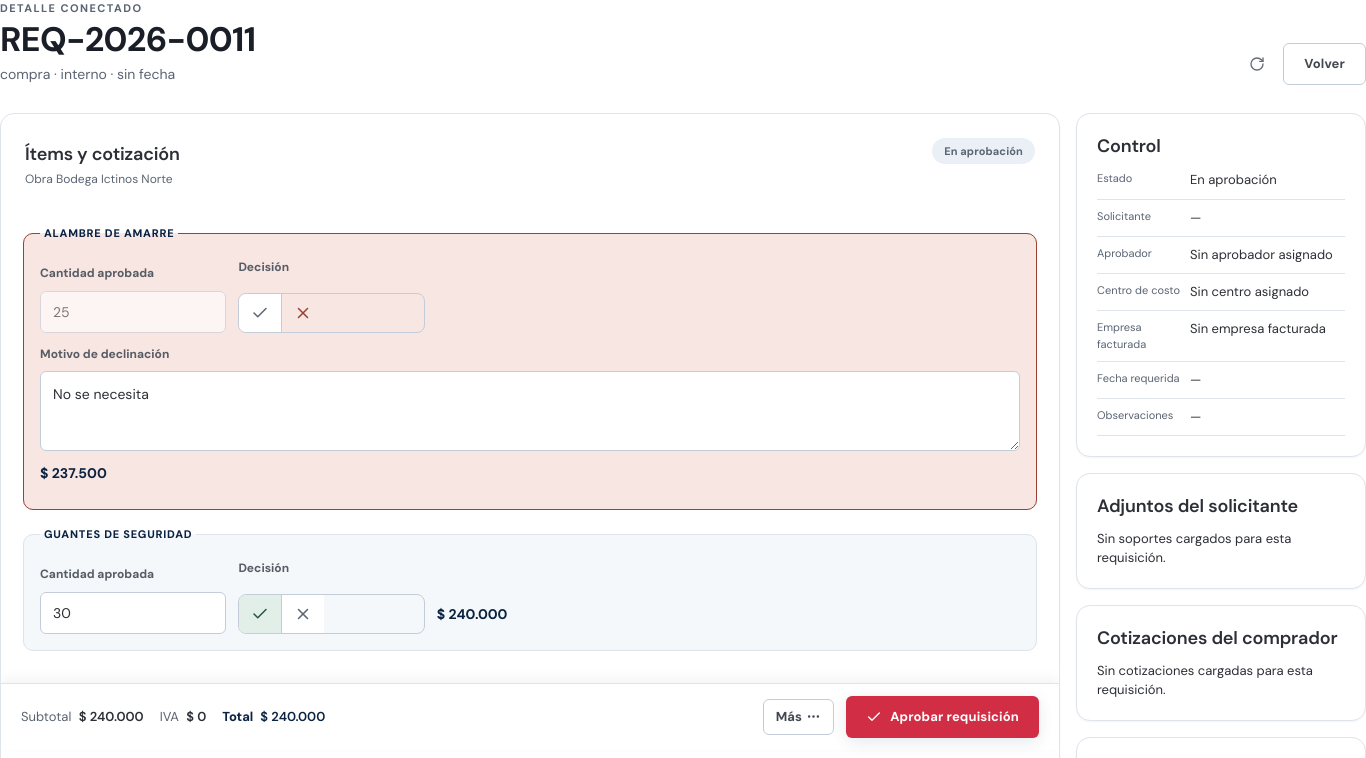
it: aprobar la requisición guarda las decisiones primero › el resumen de la confirmación dice cuántos se aprueban y cuántos se declinan
This screenshot has width=1366, height=758.
Click the button "Aprobar requisición": x=943, y=717 [846, 696, 1039, 738]
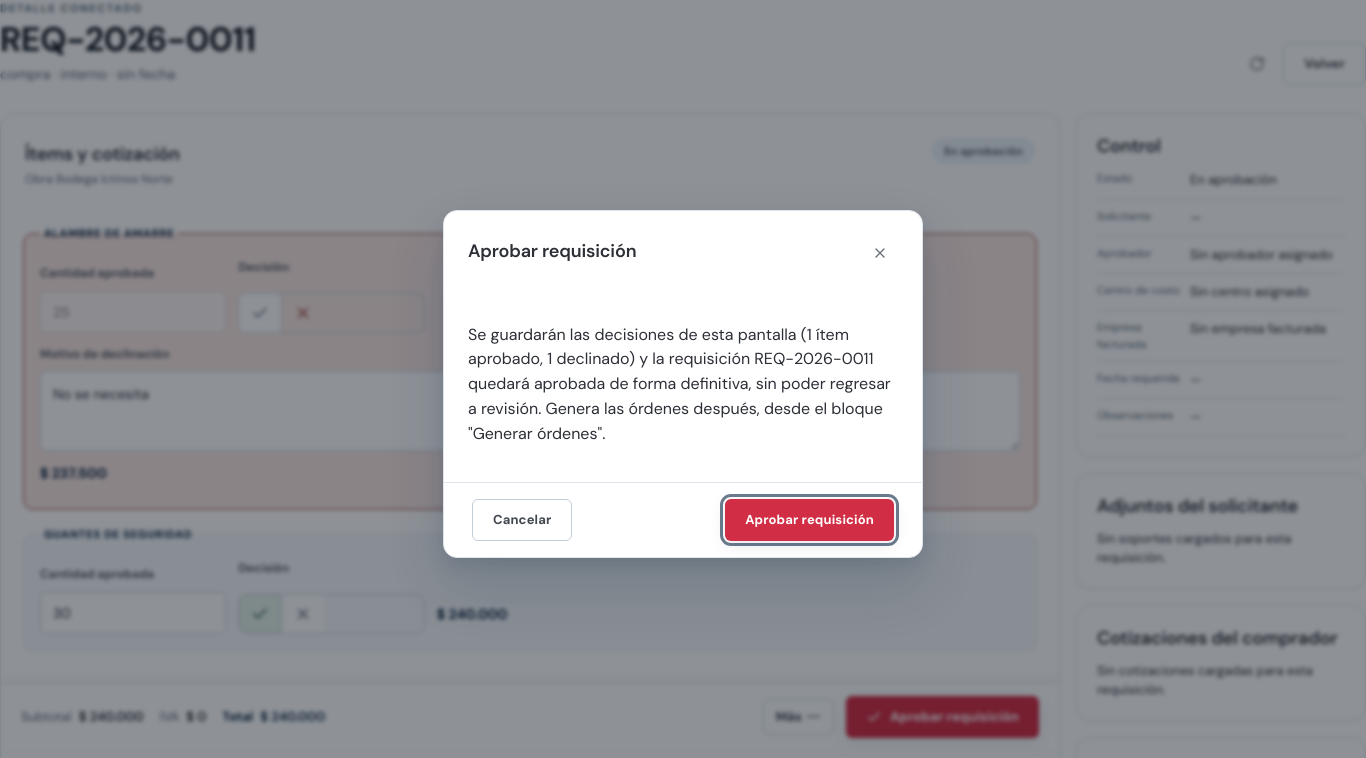
Expected: the text "1 ítem aprobado, 1 declinado" is shown, [468, 324, 891, 444]
